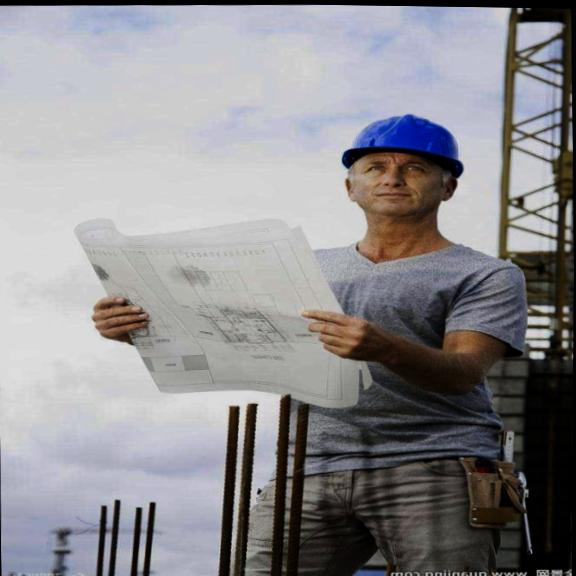no_safety_vest: (288, 229, 542, 452)
